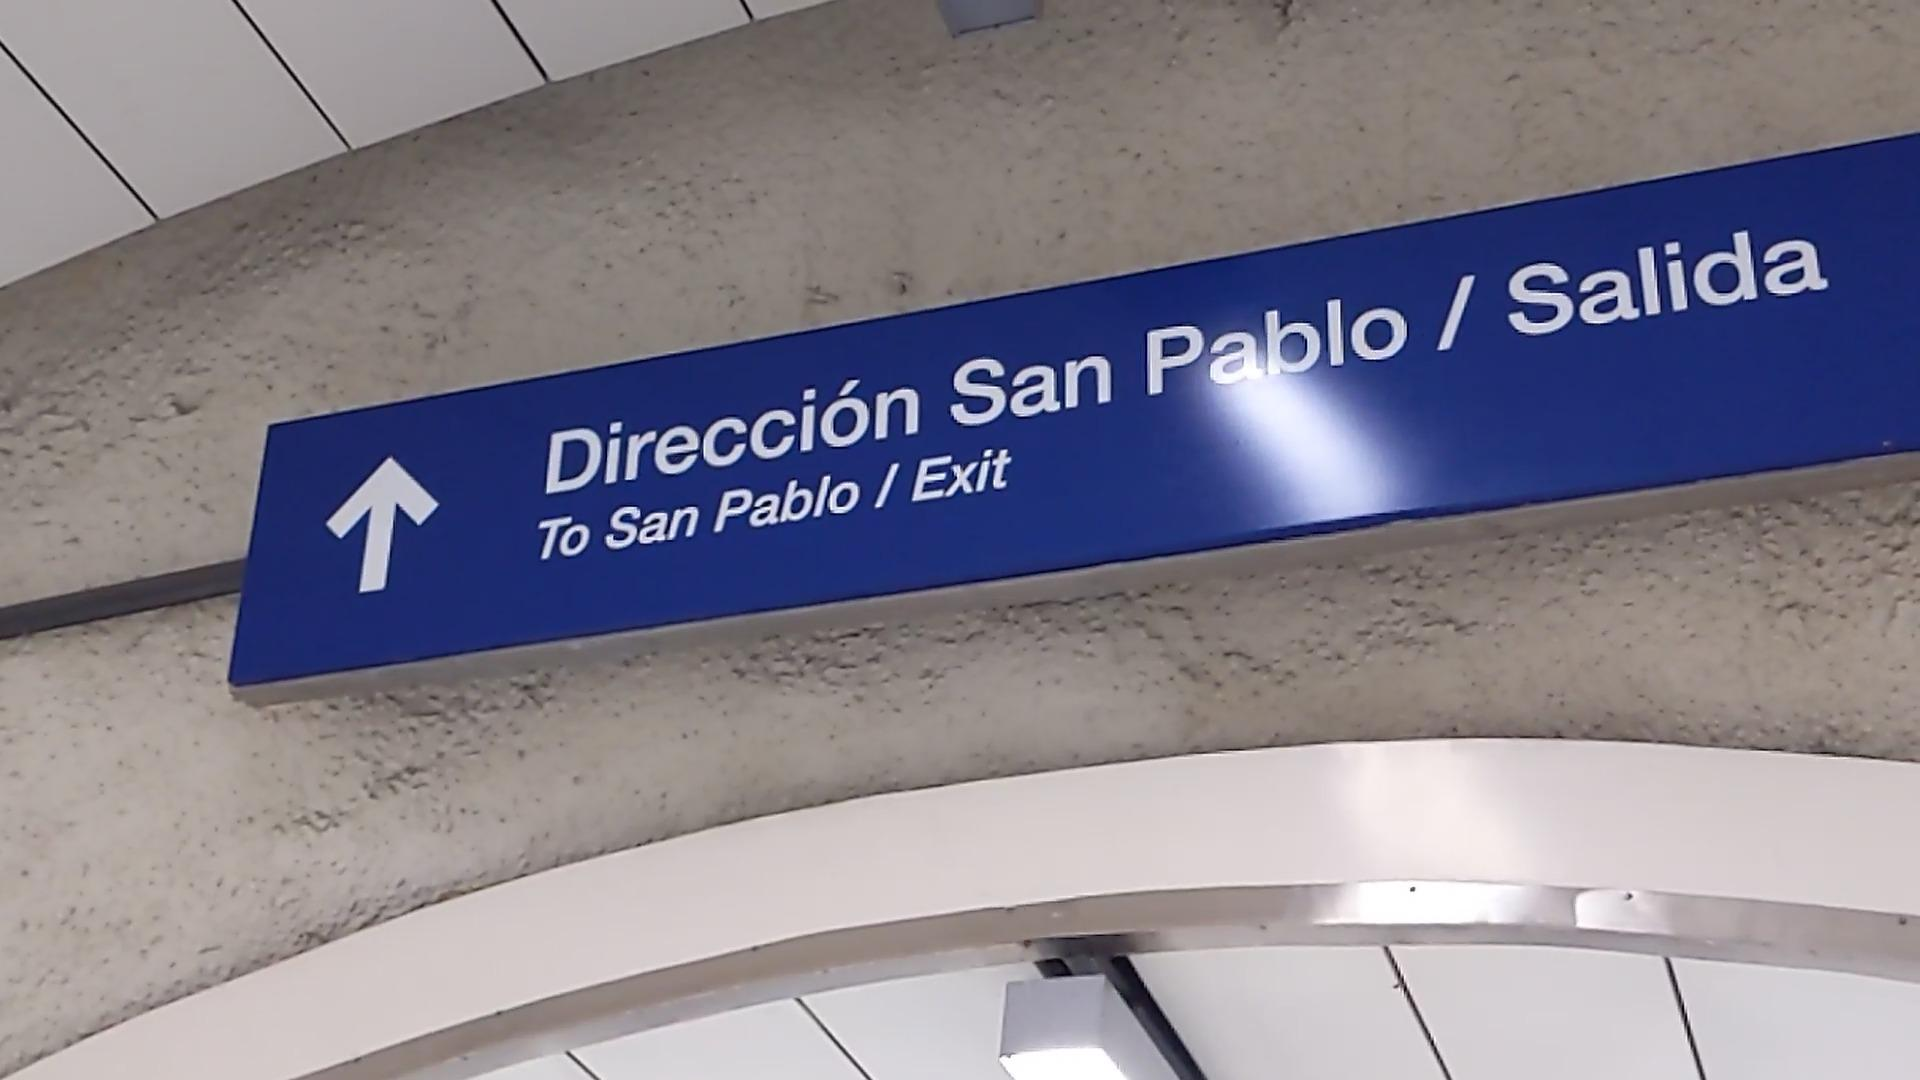up arrow: (319, 452, 446, 600)
